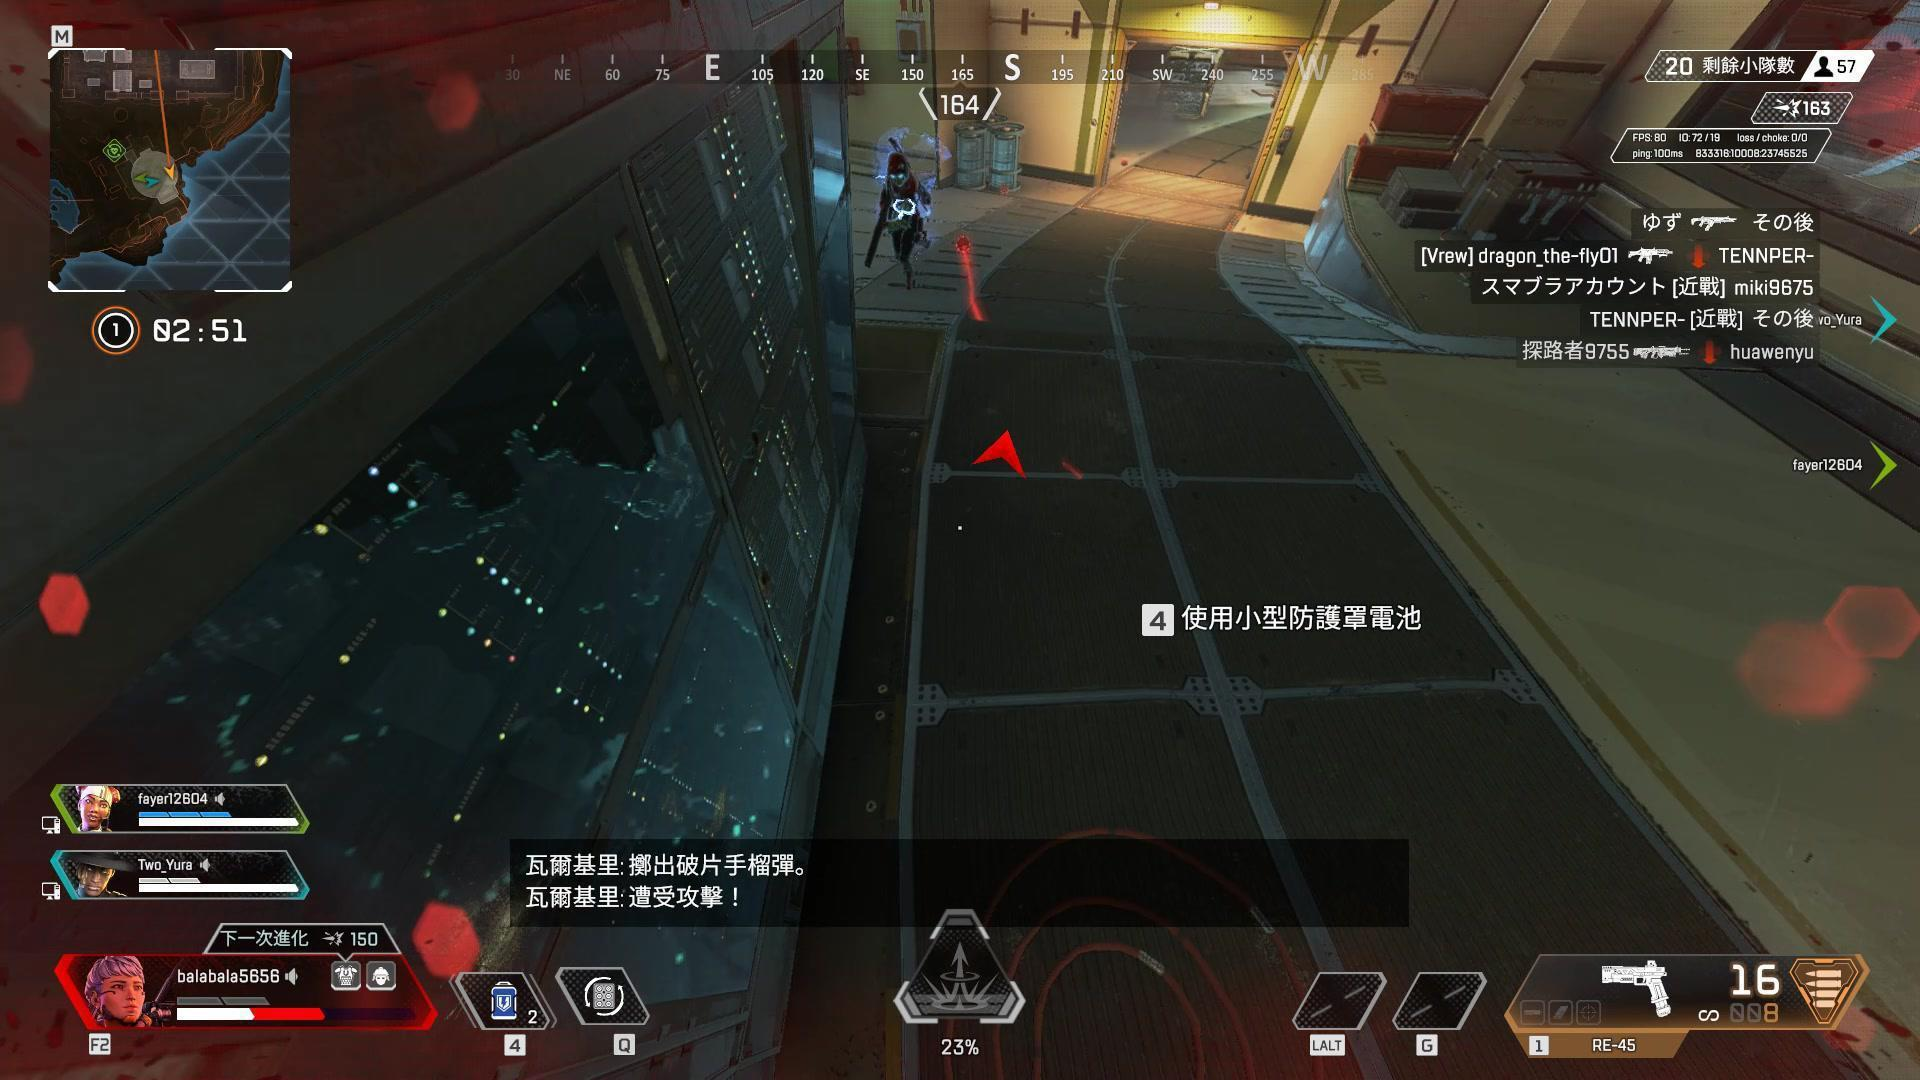avatar: (877, 153, 930, 296)
